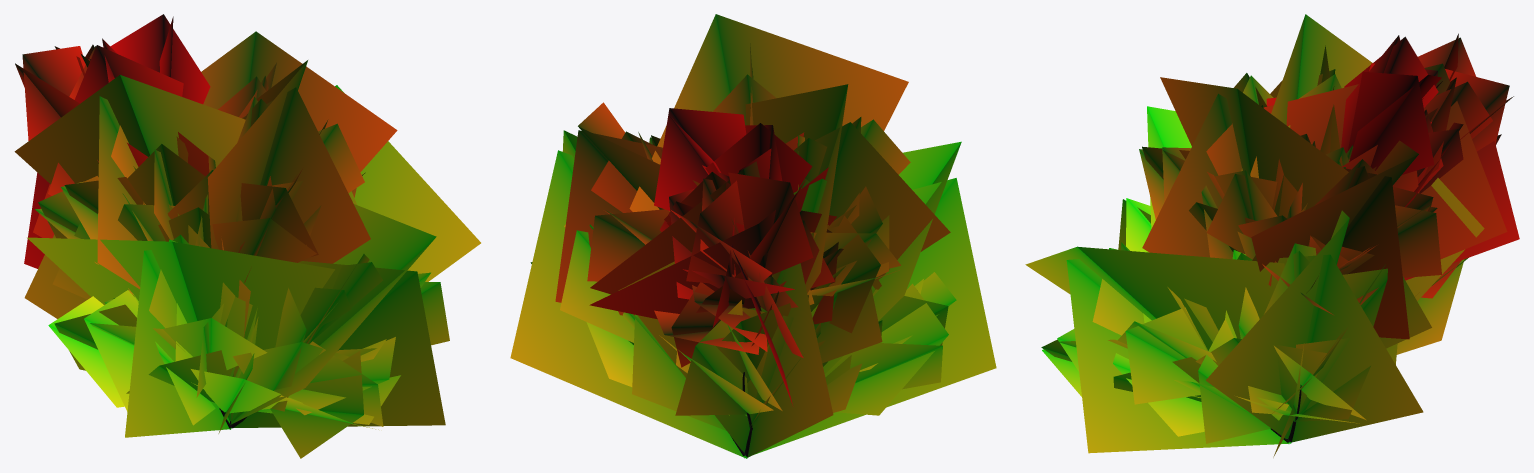
The model's file is linden_tree_7.FBX.
3 renders of one model, left to right at view 1: azimuth 30°, elevation 25°; view 2: azimuth 150°, elevation 25°; view 3: azimuth 270°, elevation 25°, orthographic. The views are drawn at different scales.
Visible parts, largest first — view 1: linden_leaves_shadow, linden_leaves_lod_0; view 2: linden_leaves_shadow, linden_leaves_lod_0; view 3: linden_leaves_shadow, linden_leaves_lod_0.
Boxes of the visible parts, x1=… form: linden_leaves_shadow: x1=14, y1=31, x2=480, y2=437; linden_leaves_lod_0: x1=15, y1=14, x2=449, y2=458; linden_leaves_shadow: x1=510, y1=14, x2=996, y2=458; linden_leaves_lod_0: x1=530, y1=68, x2=956, y2=430; linden_leaves_shadow: x1=1025, y1=14, x2=1519, y2=453; linden_leaves_lod_0: x1=1041, y1=33, x2=1513, y2=457.
Size of what is drawn, in the model's own units: 6.31 by 5.79 by 6.8.
